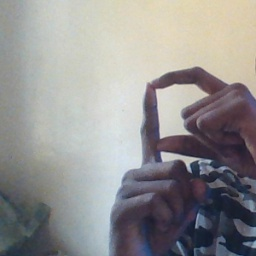D: (132, 62, 243, 185)
